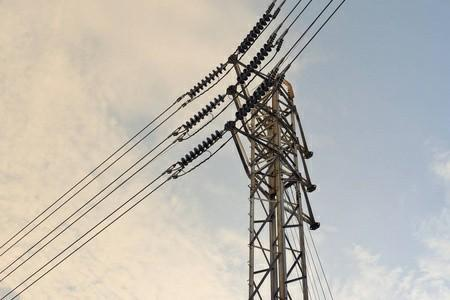power_tower: (171, 2, 322, 300)
